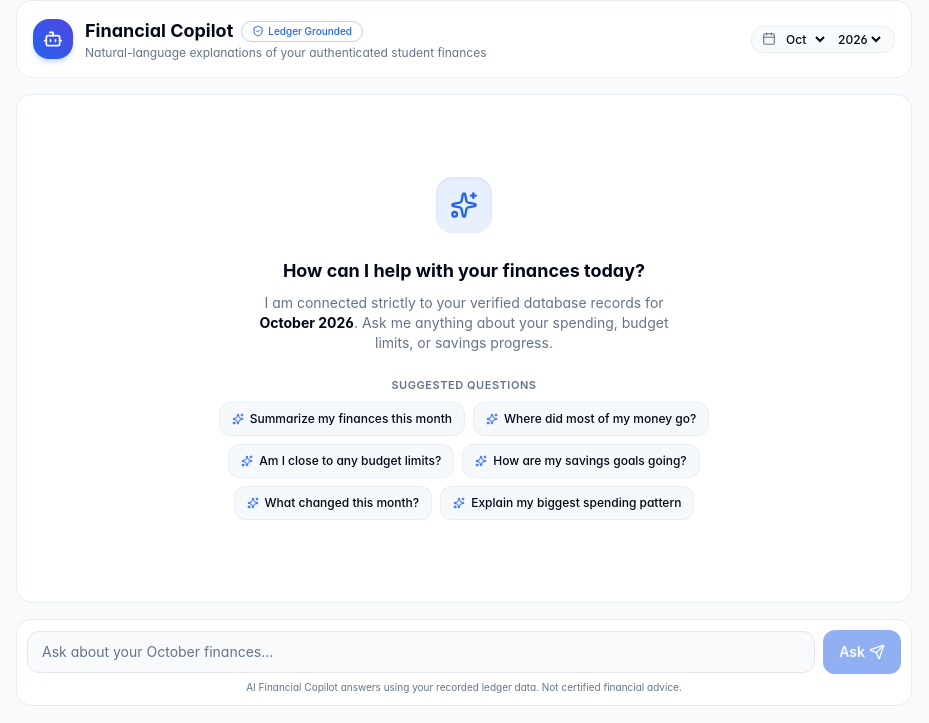
Test case: AI Financial Copilot (Phase 7) › 4. Submits text message from input and clears input field
Expected: the button "Ask" is disabled, x1=823 y1=630 x2=901 y2=674
Note: Type query
Type "How much did I spend on food?" into the field with placeholder "Ask about your October finances...".
click(421, 652); type("How much did I spend on food?")  # box x1=27 y1=631 x2=815 y2=673
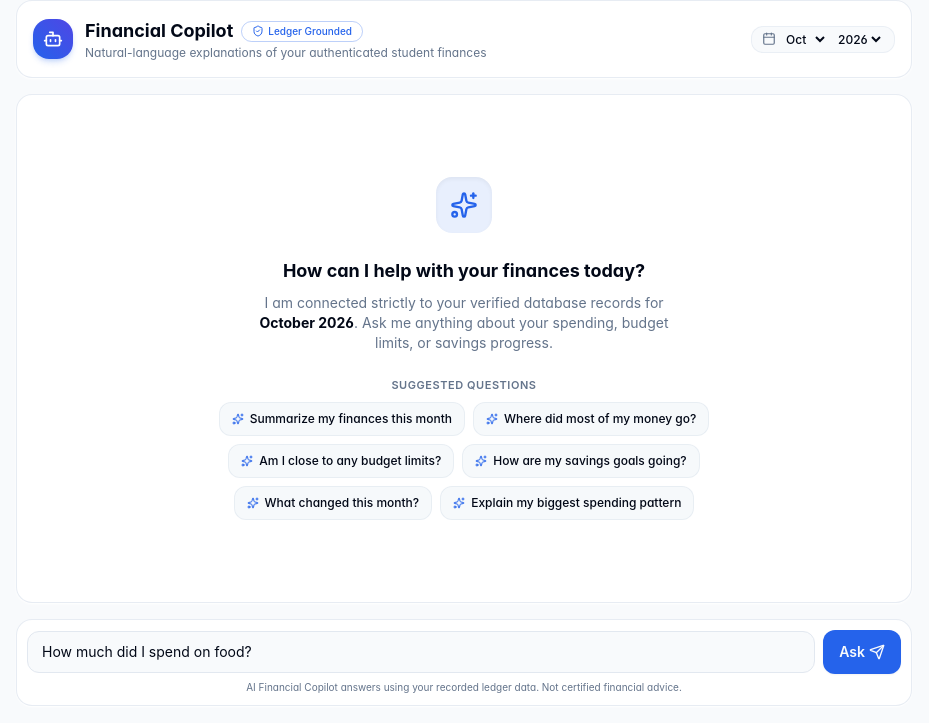
Expected: the button "Ask" is enabled
Click the button "Ask".
click(862, 652)  # box x1=823 y1=630 x2=901 y2=674
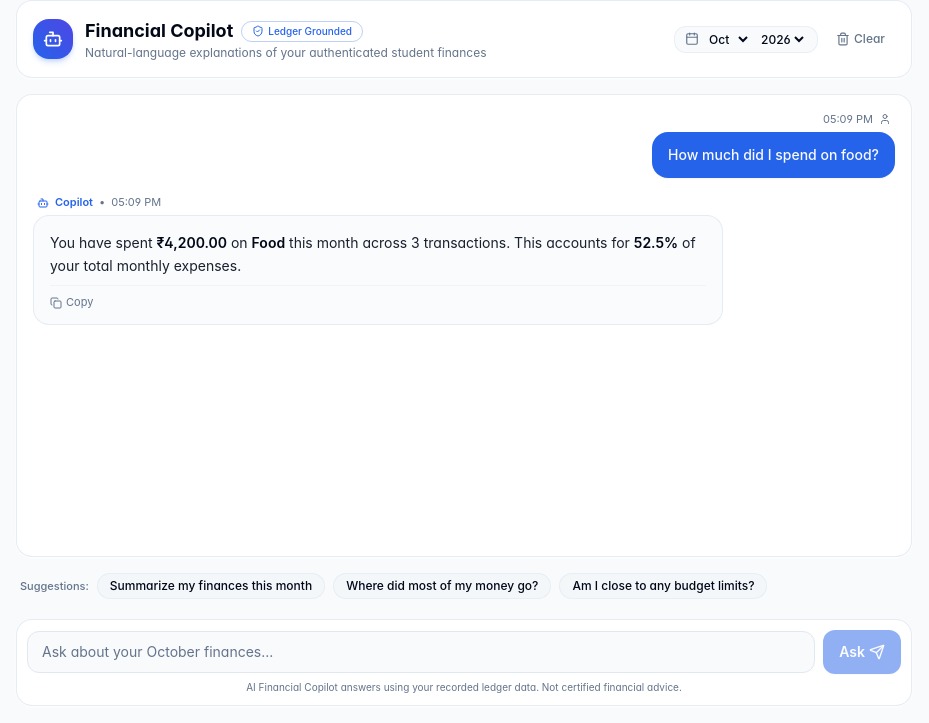
Expected: the text "How much did I spend on food?" is shown, x1=668 y1=144 x2=879 y2=166
Expected: the field with placeholder "Ask about your October finances..." is empty, x1=27 y1=631 x2=815 y2=673
